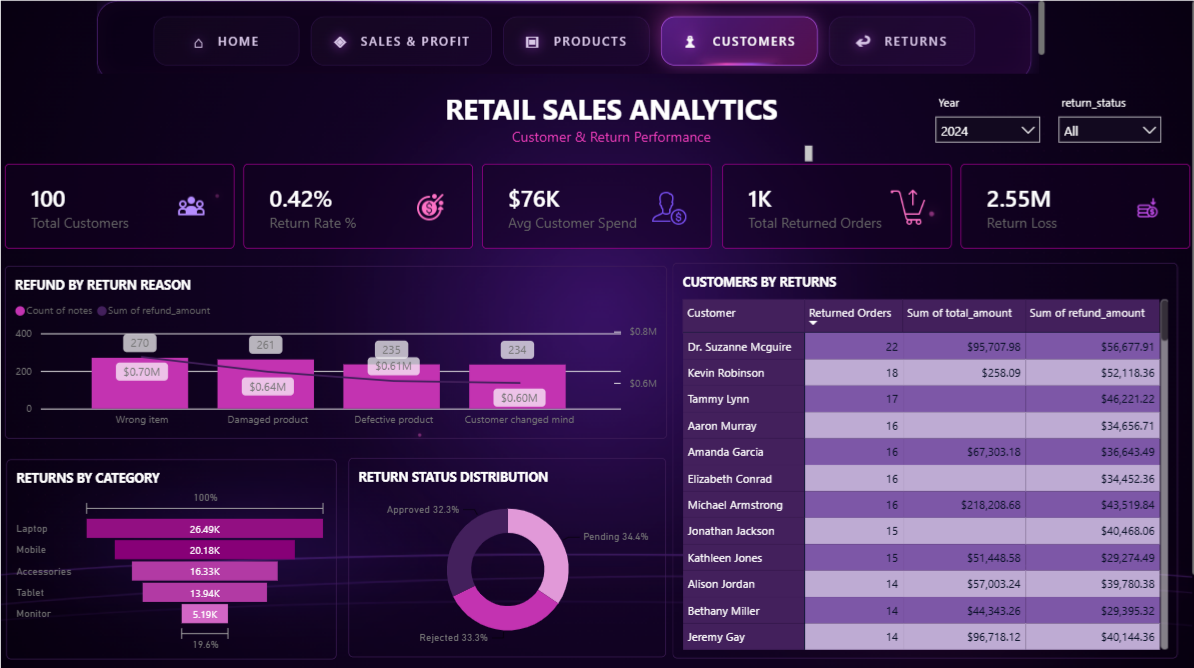

What the dashboard file says about the page in this screenshot:
{"tool":"powerbi","page":{"name":"Customers & Returns","canvas":[1280,720],"ordinal":3},"visuals":[{"type":"textStylerD577C9FF21FB4883A1CE1335C340B54F","fields":{"measure":["supplier.Animated Background"]},"box":[0,0,1279.7,720.3],"z":0},{"type":"textStylerD577C9FF21FB4883A1CE1335C340B54F","fields":{"measure":["supplier.Page Navigator customer"]},"box":[102,0,1014.8,86.9],"z":1000},{"type":"textbox","title":"RETAIL SALES ANALYTICS","box":[434.6,100.2,436.5,81.3],"z":2000},{"type":"slicer","fields":{"Values":["orders.delivery_date.Variation.Date Hierarchy.Year"]},"box":[986.5,100.2,130.4,60.5],"z":3000},{"type":"slicer","fields":{"Values":["returns.return_status"]},"box":[1116.9,100.2,128.5,60.5],"z":4000},{"type":"funnel","title":"RETURNS BY CATEGORY","fields":{"Category":["product.category Hierarchy.category","product.category Hierarchy.name","product.color"],"Y":["Sum(product.sell_price)"]},"box":[11.3,491.9,350,211.7],"z":5000},{"type":"donutChart","title":"RETURN STATUS DISTRIBUTION","fields":{"Category":["returns.return_status"],"Y":["CountNonNull(returns.customer_id)"]},"box":[374.2,490.3,336.4,211.7],"z":6000},{"type":"lineStackedColumnComboChart","title":"REFUND BY RETURN REASON","fields":{"Category":["returns.return_reason"],"Y":["CountNonNull(returns.notes)"],"Y2":["Sum(returns.refund_amount)"]},"box":[9.7,287.1,701.7,183.3],"z":7000},{"type":"cardVisual","fields":{"Data":["CountNonNull(customer.customer_id)"]},"box":[9.4,178,243.6,90.2],"z":9000},{"type":"cardVisual","fields":{"Data":["returns.Loss Returns %"]},"box":[1022.4,178,243.6,90.2],"z":10000},{"type":"cardVisual","fields":{"Data":["returns.Return Rate %"]},"box":[262.7,178,243.6,90.2],"z":11000},{"type":"cardVisual","fields":{"Data":["returns.Total Returned Orders"]},"box":[769.1,178,243.6,90.2],"z":12000},{"type":"cardVisual","fields":{"Data":["orders.Average Customer Spend"]},"box":[515.9,178,243.6,90.2],"z":13000},{"type":"pivotTable","title":"CUSTOMERS BY RETURNS ","fields":{"Rows":["customer.name"],"Values":["CountNonNull(returns.return_status)","Sum(orders.total_amount)","Sum(returns.refund_amount)"]},"box":[717.4,283.1,535.5,419.4],"z":13001},{"type":"pageNavigator","box":[160.7,17.5,730.3,50.2],"z":13002},{"type":"actionButton","box":[890.7,19.1,138,49.1],"z":13003}]}

Visuals, with their boxes in screenshot pixels (x1, y1, x2, y2), scaled from the page's 1280x720 canvas onto the 1194x668 screenshot:
textStylerD577C9FF21FB4883A1CE1335C340B54F - supplier.Animated Background: 0 0 1193 667
textStylerD577C9FF21FB4883A1CE1335C340B54F - supplier.Page Navigator customer: 95 0 1042 81
"RETAIL SALES ANALYTICS" textbox: 405 93 813 168
slicer - orders.delivery_date.Variation.Date Hierarchy.Year: 920 93 1042 149
slicer - returns.return_status: 1042 93 1162 149
"RETURNS BY CATEGORY" funnel: 11 456 337 653
"RETURN STATUS DISTRIBUTION" donutChart: 349 455 663 651
"REFUND BY RETURN REASON" lineStackedColumnComboChart: 9 266 664 436
cardVisual - CountNonNull(customer.customer_id): 9 165 236 249
cardVisual - returns.Loss Returns %: 954 165 1181 249
cardVisual - returns.Return Rate %: 245 165 472 249
cardVisual - returns.Total Returned Orders: 717 165 945 249
cardVisual - orders.Average Customer Spend: 481 165 708 249
"CUSTOMERS BY RETURNS " pivotTable: 669 263 1169 652
pageNavigator: 150 16 831 63
actionButton: 831 18 960 63
